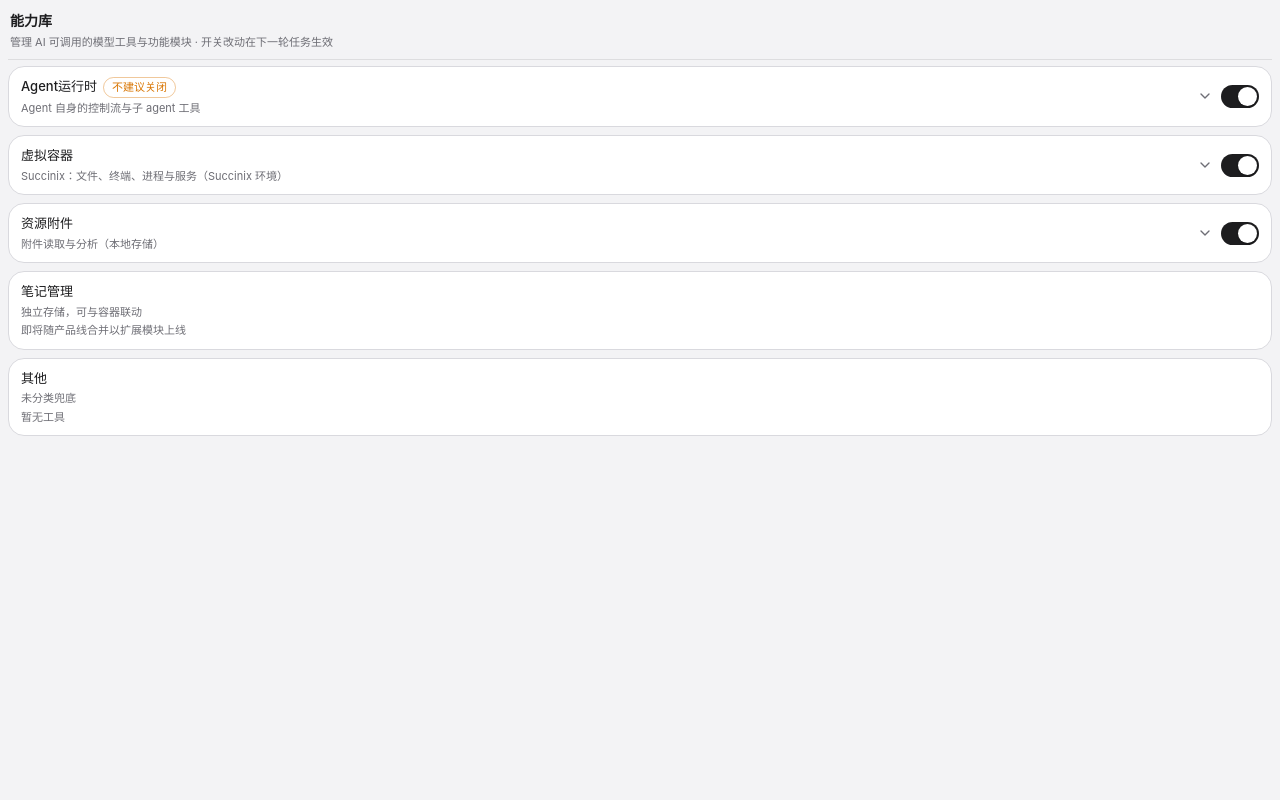
CapabilityPanel › shows the tool intro under each tool name
Click the text "资源附件" at (47, 224), box [21,214,73,234]
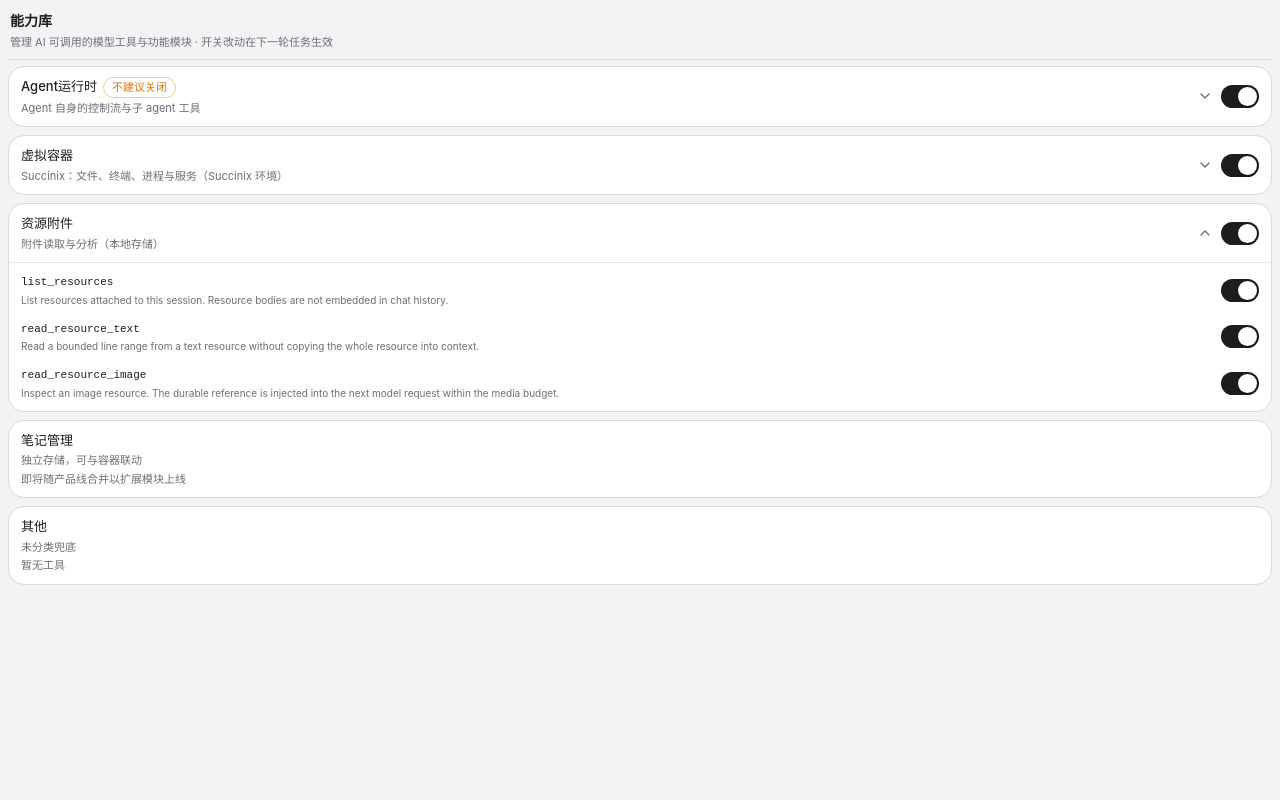
Expected: the text "Read a bounded line range" is shown, [21,340,479,352]
